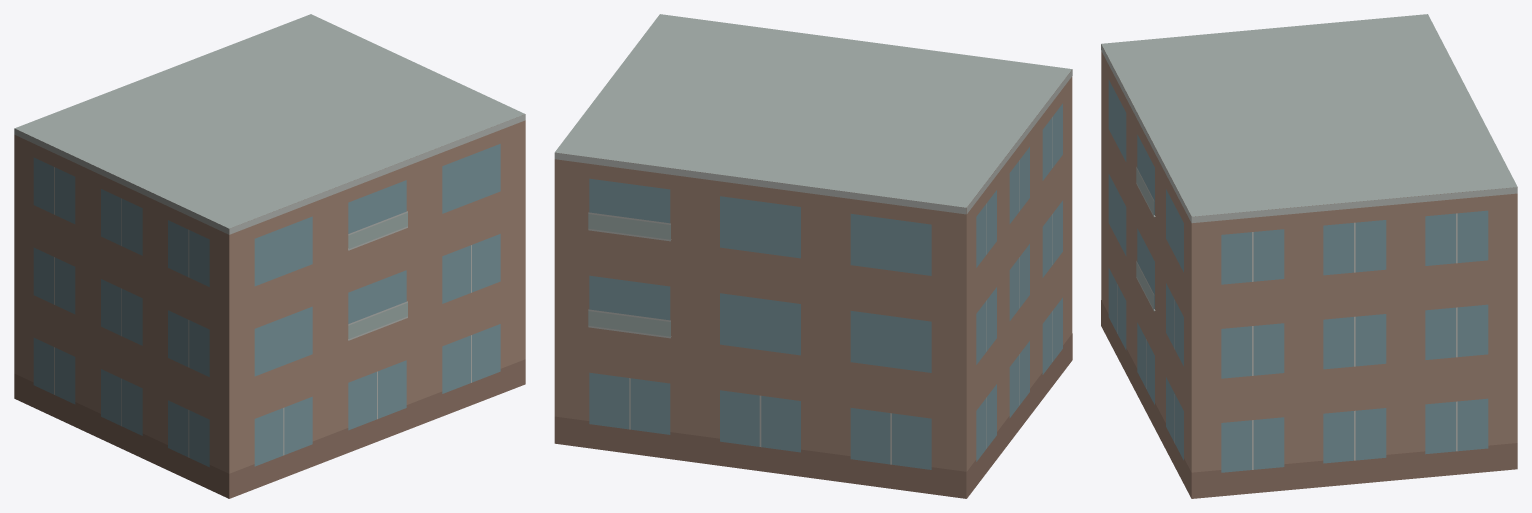
File: survey-upis-33002304.glb
The picture shows the model from 3 angles, left to right: view 1: azimuth 30°, elevation 25°; view 2: azimuth 150°, elevation 25°; view 3: azimuth 270°, elevation 25°; orthographic projection. The views are drawn at different scales.
Visible parts, largest first — view 1: survey-upis-33002304.tmp; view 2: survey-upis-33002304.tmp; view 3: survey-upis-33002304.tmp.
Boxes of the visible parts, x1,y1,x2,y2 form: survey-upis-33002304.tmp: (14,14,525,498); survey-upis-33002304.tmp: (554,14,1072,498); survey-upis-33002304.tmp: (1101,14,1517,498).
Bounding box in the file's own units: 16.35 × 10.6 × 14.2.
